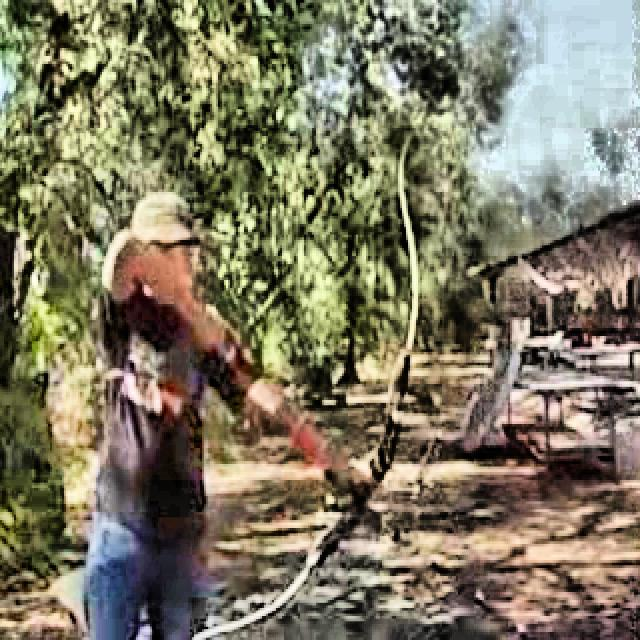I: (65, 171, 380, 640)
